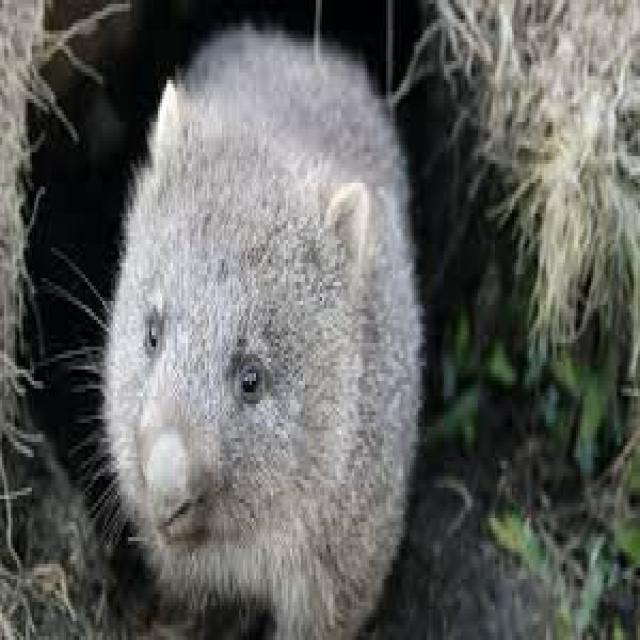Wombat: (102, 21, 425, 640)
